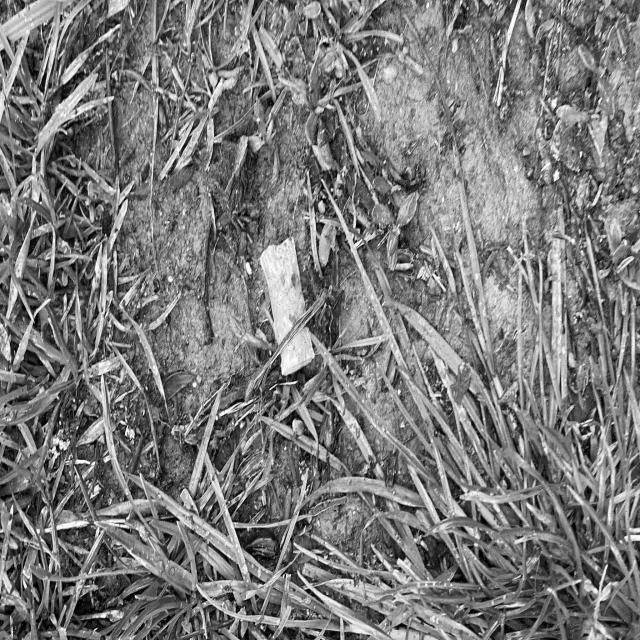other waste: (259, 235, 316, 376)
